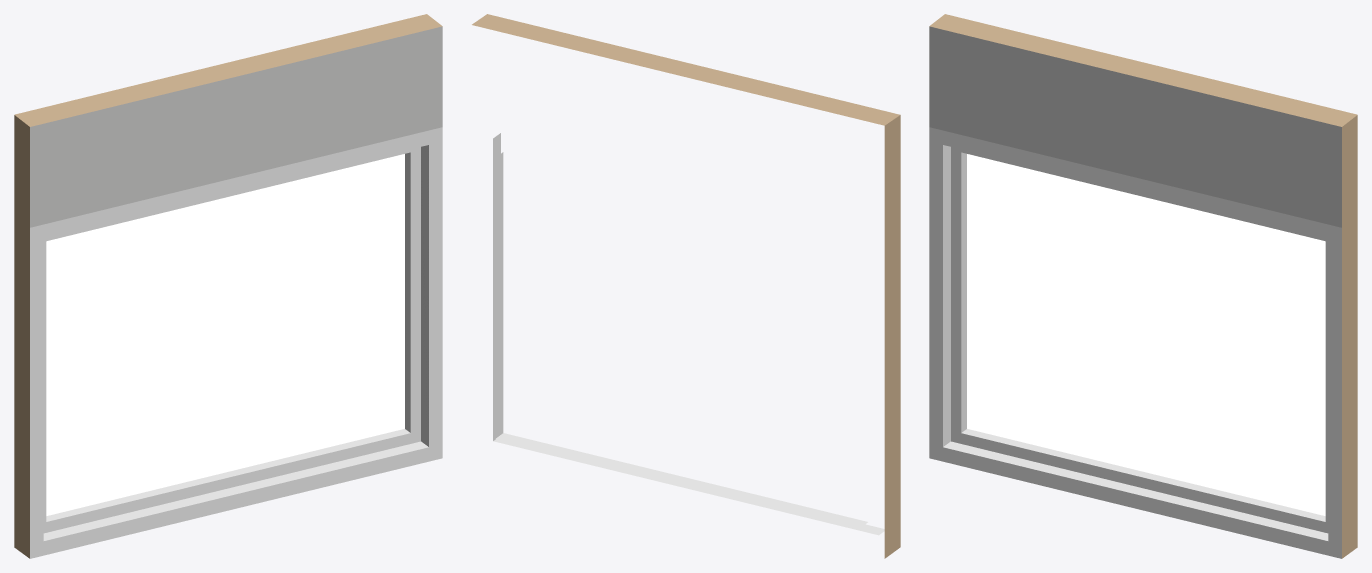
The model's file is buildings-house-wall-window-portal-3x3m.glb.
The picture shows the model from 3 angles, left to right: view 1: azimuth 30°, elevation 25°; view 2: azimuth 150°, elevation 25°; view 3: azimuth 330°, elevation 25°; orthographic projection.
Parts seen in each view (by area): view 1: house-wall-window-portal-3x3m; view 2: house-wall-window-portal-3x3m; view 3: house-wall-window-portal-3x3m.
Boxes of the visible parts, x1,y1,x2,y2 form: house-wall-window-portal-3x3m: [14, 14, 442, 558]; house-wall-window-portal-3x3m: [472, 14, 900, 558]; house-wall-window-portal-3x3m: [929, 14, 1357, 558].
Size of the model in its own units: 3 by 3.01 by 0.2.
